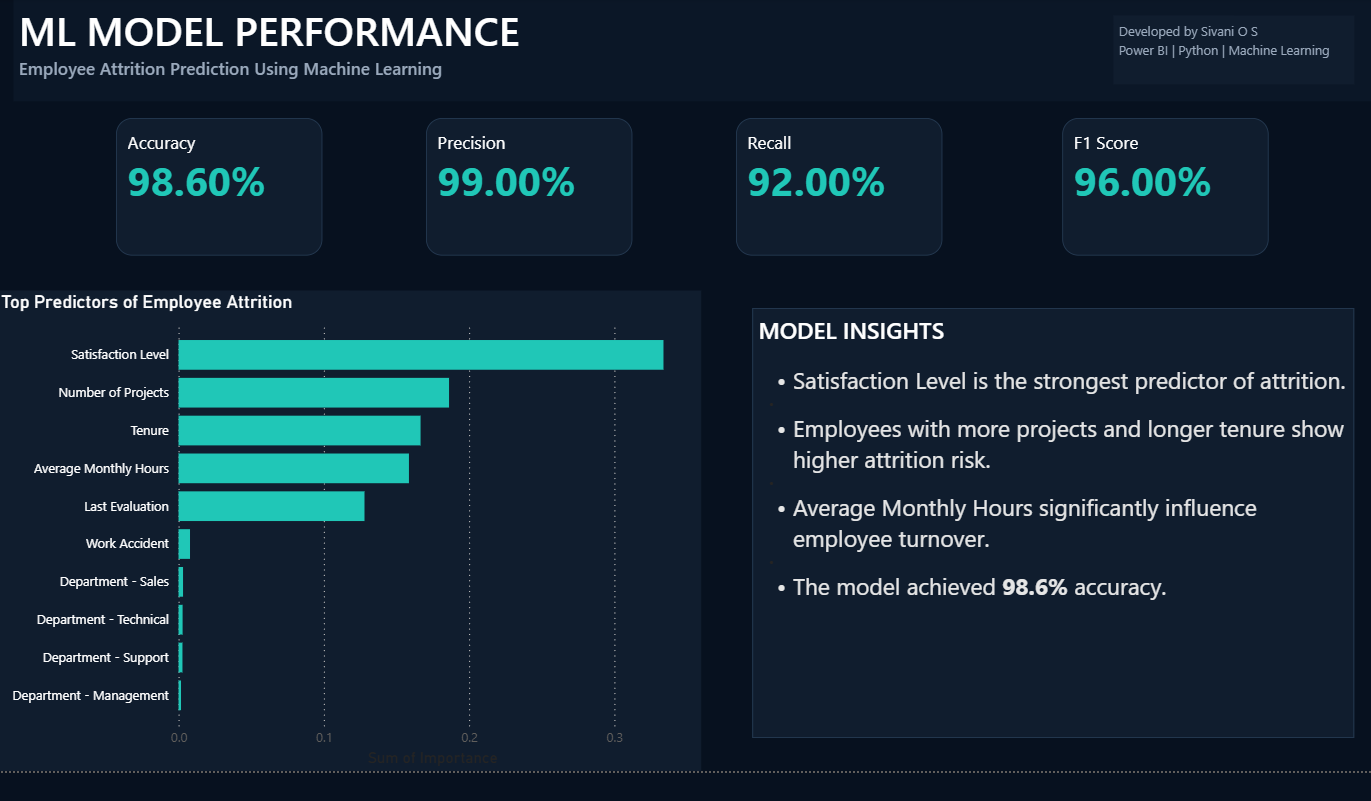

Layout of this report page (visuals, bound fields, positions):
{"tool":"powerbi","page":{"name":"ML Insights","canvas":[1280,720],"ordinal":2},"visuals":[{"type":"textbox","box":[16,0,1264,96],"z":0},{"type":"textbox","box":[112,112,192,128],"z":1000},{"type":"textbox","box":[400,112,192,128],"z":2000},{"type":"textbox","box":[688,112,192,128],"z":3000},{"type":"textbox","box":[992,112,192,128],"z":4000},{"type":"clusteredBarChart","title":"Top Predictors of Employee Attrition ","fields":{"Category":["Sheet1.Feature"],"Y":["Sum(Sheet1.Importance)"]},"box":[0,272,656,448],"z":5000},{"type":"textbox","box":[704,288,560,400],"z":6000},{"type":"textbox","box":[1040,16,224,64],"z":7000}]}

Visuals, with their boxes on the page's 1280x720 design canvas (x1, y1, x2, y2). These are canvas units, not pixel positions in the 1371x801 screenshot, which may show the page scaled, cropped or inside an application window:
textbox: 16 0 1280 96
textbox: 112 112 304 240
textbox: 400 112 592 240
textbox: 688 112 880 240
textbox: 992 112 1184 240
"Top Predictors of Employee Attrition " clusteredBarChart: 0 272 656 720
textbox: 704 288 1264 688
textbox: 1040 16 1264 80
